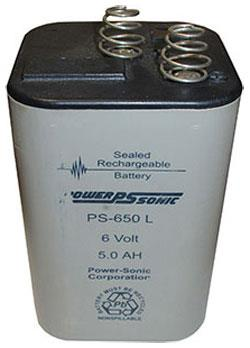6V: (15, 3, 241, 344)
